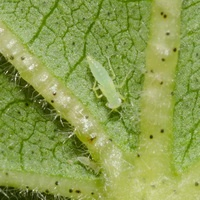insect: (0, 0, 199, 199), (85, 53, 132, 119), (1, 171, 85, 196), (86, 55, 123, 108)
